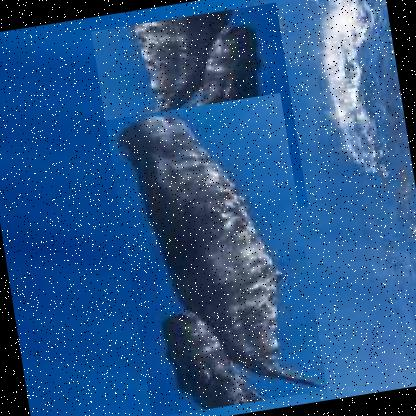sperm_whale: (103, 90, 327, 415), (89, 0, 308, 235)
